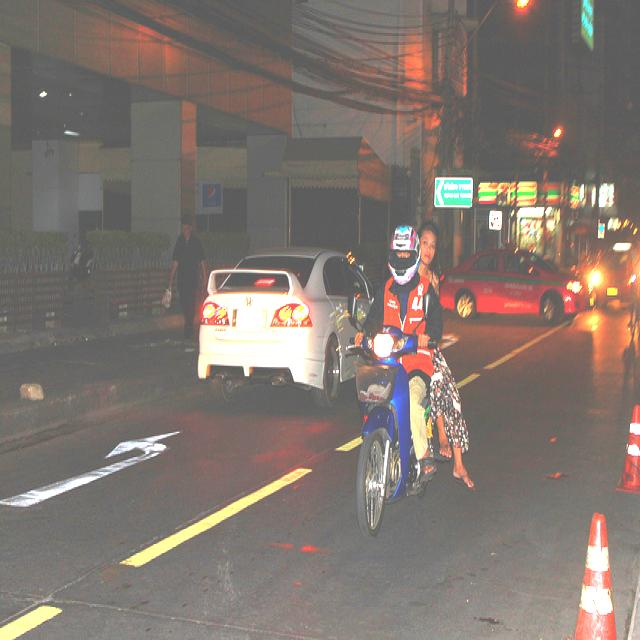Motorbike: (345, 294, 479, 540)
